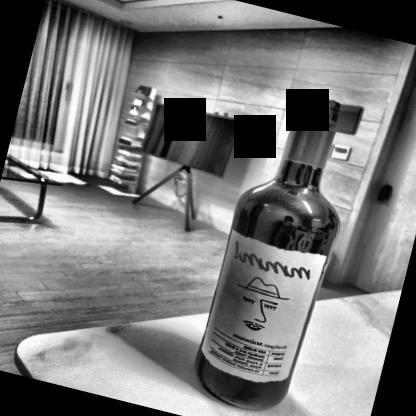umm: (195, 230, 323, 392)
